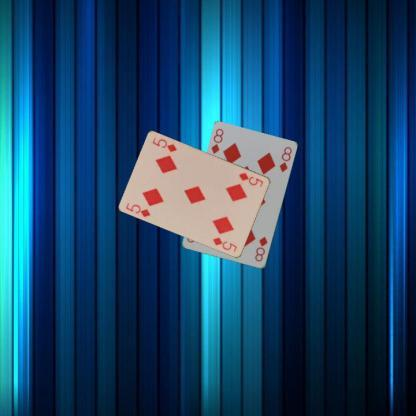5d: (236, 170, 265, 188), (124, 200, 152, 218)
8d: (252, 234, 269, 263), (208, 126, 224, 156)
